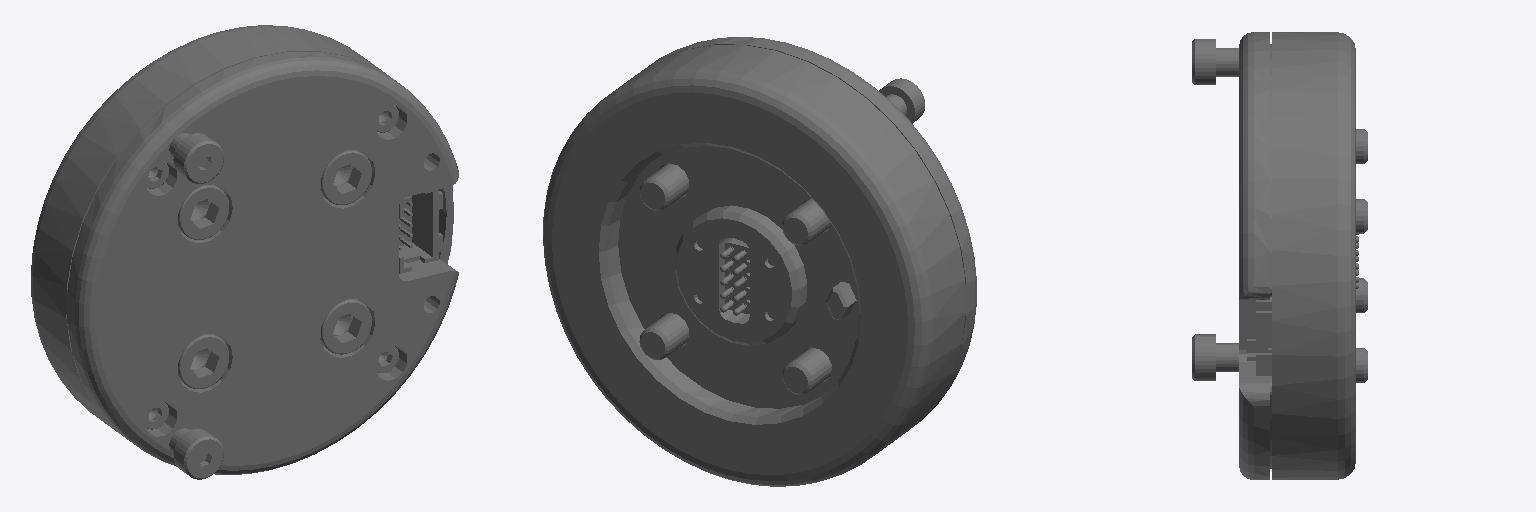
File: connector_plate.obj
3 renders of one model, left to right at view 1: azimuth 30°, elevation 25°; view 2: azimuth 150°, elevation 25°; view 3: azimuth 270°, elevation 25°, orthographic.
Visible parts, largest first — view 1: Connector_Plate; view 2: Connector_Plate; view 3: Connector_Plate.
Boxes of the visible parts, box(x1,y1,x2,y2) form: Connector_Plate: box(31, 25, 458, 479); Connector_Plate: box(543, 37, 976, 486); Connector_Plate: box(1192, 32, 1367, 479).
Size of the model in its own units: 0.0756 by 0.0756 by 0.0296.